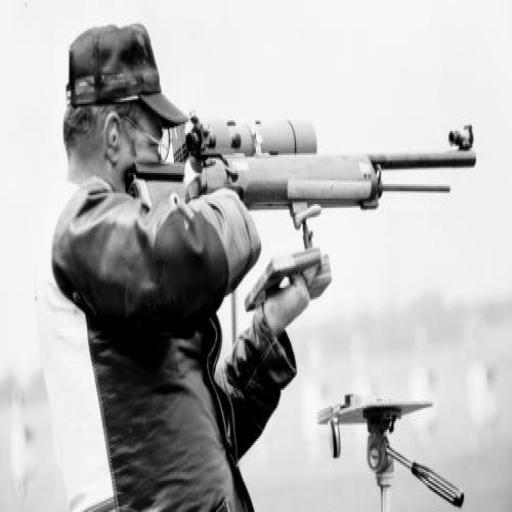shooting: (48, 20, 326, 510)
